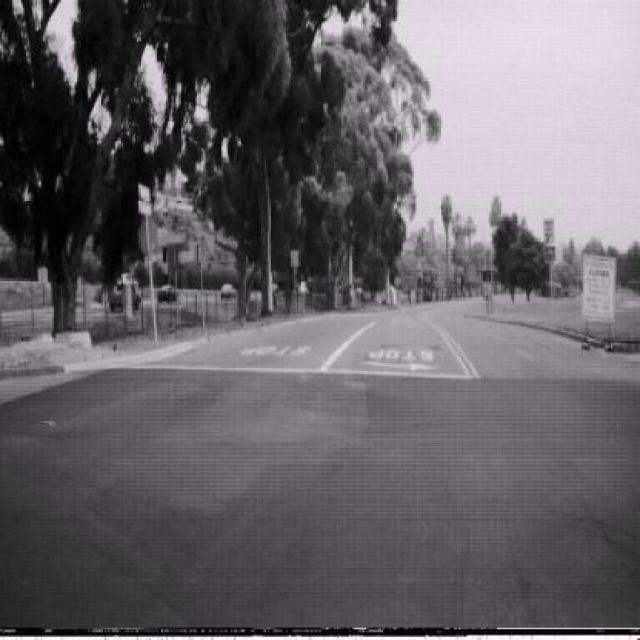speedLimit30: (543, 215, 556, 247)
